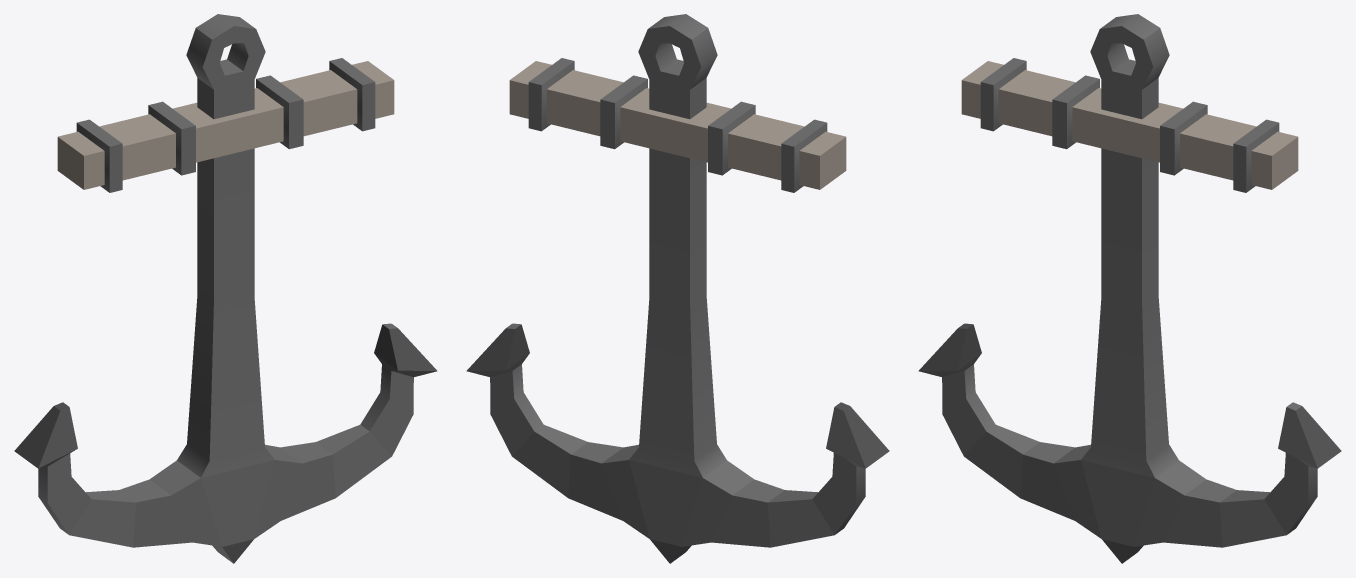
The model's file is Anchor_01.fbx.
The picture shows the model from 3 angles, left to right: view 1: azimuth 30°, elevation 25°; view 2: azimuth 150°, elevation 25°; view 3: azimuth 330°, elevation 25°; orthographic projection.
Visible parts, largest first — view 1: Anchor_01; view 2: Anchor_01; view 3: Anchor_01.
Boxes of the visible parts, x1,y1,x2,y2 form: Anchor_01: (14, 14, 437, 563); Anchor_01: (466, 14, 889, 563); Anchor_01: (918, 14, 1341, 563).
Size of the model in its own units: 1.14 by 1.47 by 0.1639.
